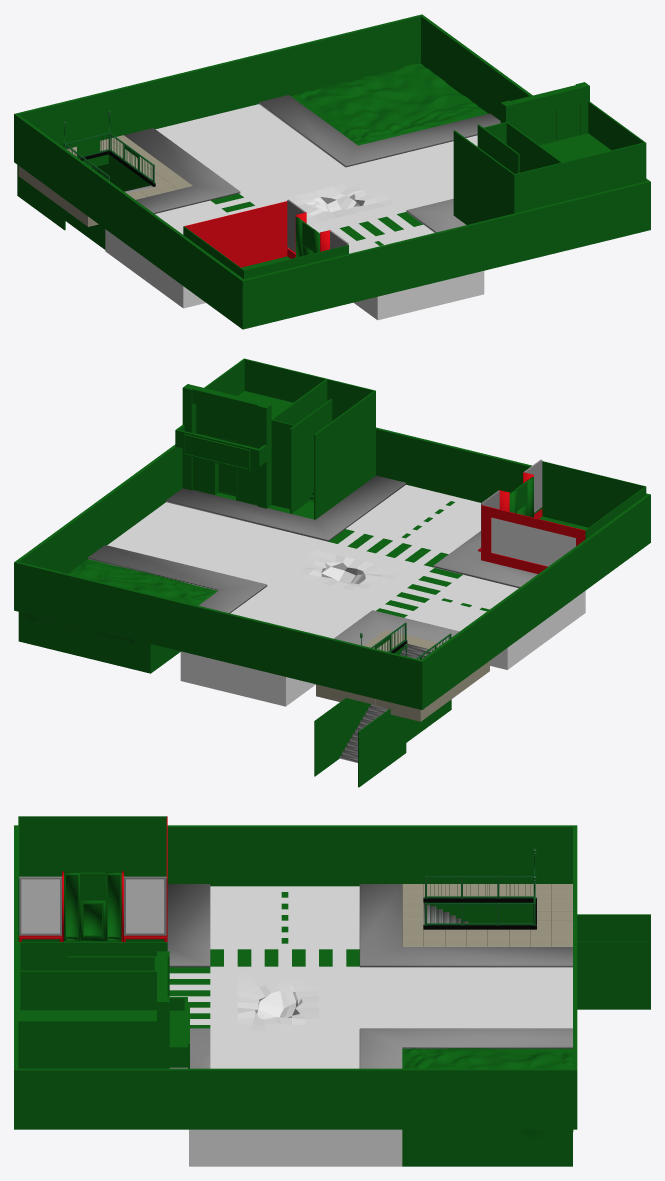
The model's file is RUA1.fbx.
3 views of the same model, one above another, from view 1: azimuth 30°, elevation 25°; view 2: azimuth 150°, elevation 25°; view 3: azimuth 270°, elevation 25° (orthographic). The views are drawn at different scales.
Visible parts, largest first — view 1: Cube.011; view 2: Cube.011; view 3: Cube.011.
Part boxes in pixels (x1=…): Cube.011: x1=14, y1=14, x2=650, y2=329; Cube.011: x1=14, y1=358, x2=650, y2=787; Cube.011: x1=14, y1=816, x2=650, y2=1166.
Bounding box in the file's own units: 2720 × 1056 × 2986.
